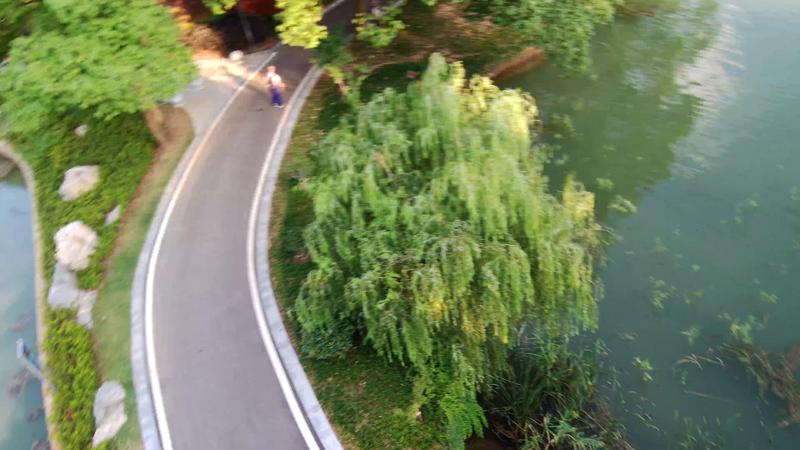passerby: (264, 64, 286, 108)
